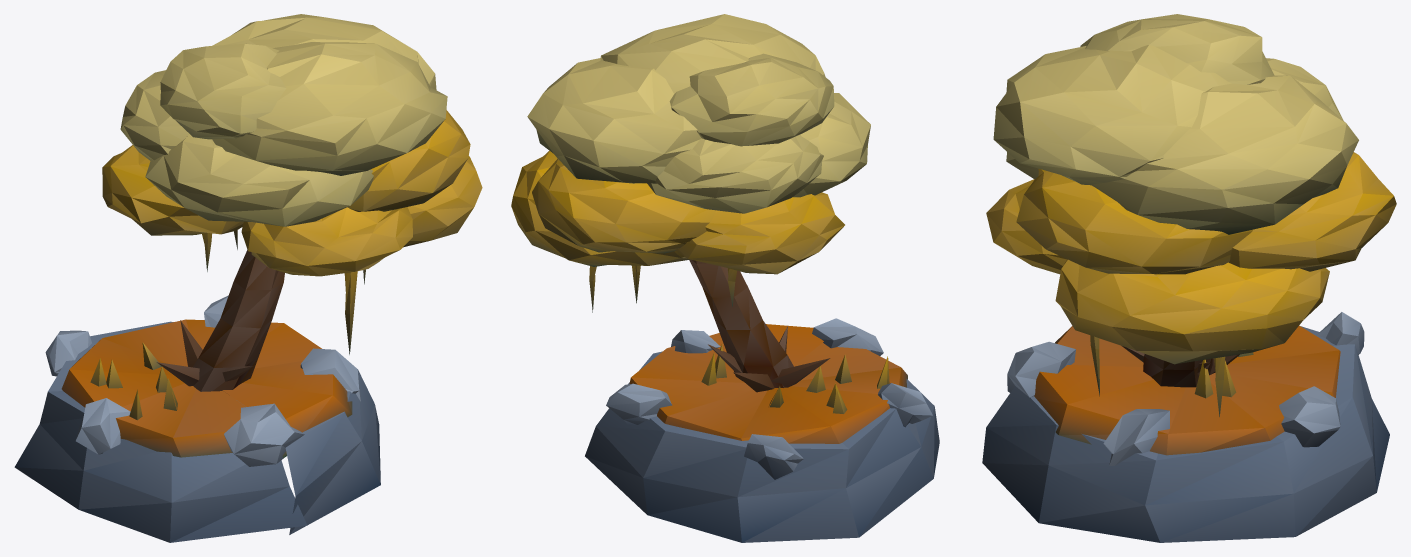
Rendered from pohon_river_autumn_150059.glb.
3 renders of one model, left to right at view 1: azimuth 30°, elevation 25°; view 2: azimuth 150°, elevation 25°; view 3: azimuth 270°, elevation 25°, orthographic. The views are drawn at different scales.
Visible parts, largest first — view 1: Dedaunan_Dan_Sulur, Pulau_Batu_Tepi_Sungai, Batang_Dan_Akar; view 2: Dedaunan_Dan_Sulur, Pulau_Batu_Tepi_Sungai, Batang_Dan_Akar; view 3: Dedaunan_Dan_Sulur, Pulau_Batu_Tepi_Sungai, Batang_Dan_Akar.
Boxes of the visible parts, x1,y1,x2,y2 form: Dedaunan_Dan_Sulur: (102,14,482,354); Pulau_Batu_Tepi_Sungai: (14,295,380,542); Batang_Dan_Akar: (156,250,284,391); Dedaunan_Dan_Sulur: (511,14,870,312); Pulau_Batu_Tepi_Sungai: (585,318,939,542); Batang_Dan_Akar: (689,259,830,392); Dedaunan_Dan_Sulur: (986,14,1396,416); Pulau_Batu_Tepi_Sungai: (982,312,1389,542); Batang_Dan_Akar: (1122,346,1239,387).
Size of the model in its own units: 6.88 by 6.56 by 5.54.
